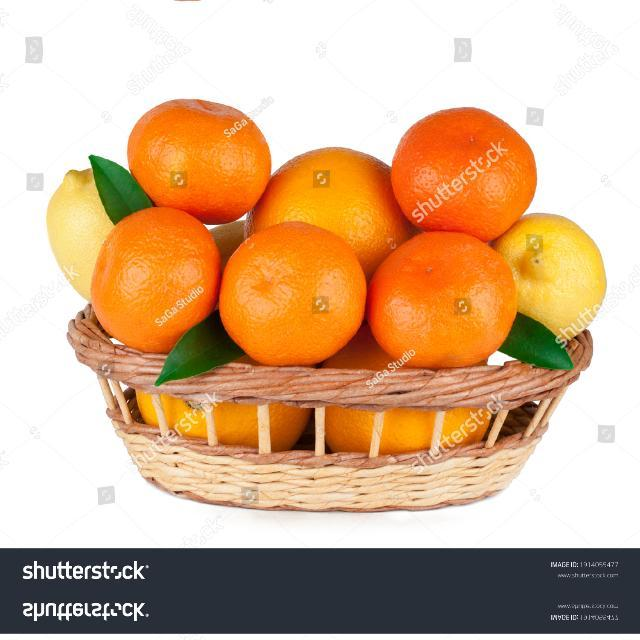Orange: (218, 220, 367, 365), (247, 145, 409, 277), (366, 229, 518, 368), (390, 105, 537, 241), (89, 205, 221, 353), (126, 97, 271, 224), (491, 211, 606, 344)
